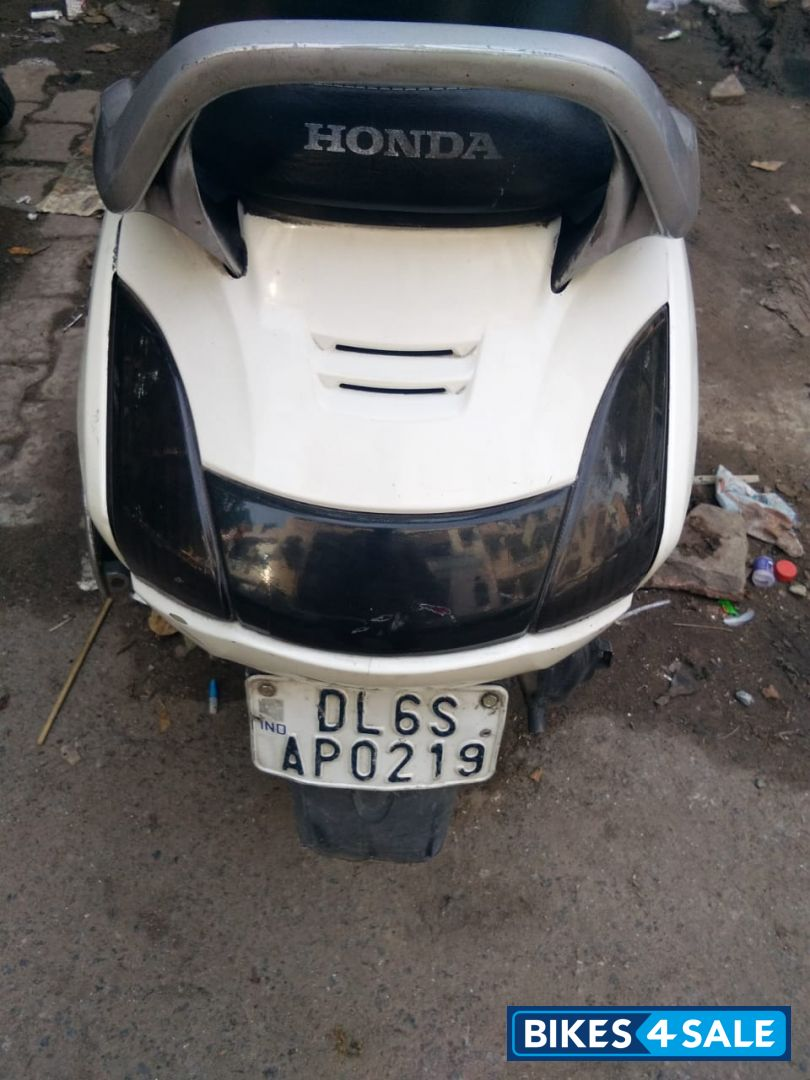doublelinenumberplate: (243, 672, 510, 792)
